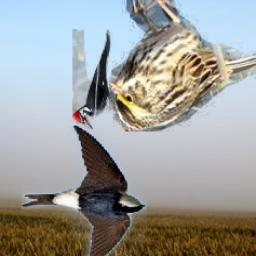Sparrow: (108, 0, 256, 133)
Swallow: (22, 127, 147, 256)
Woodpecker: (71, 29, 116, 129)
